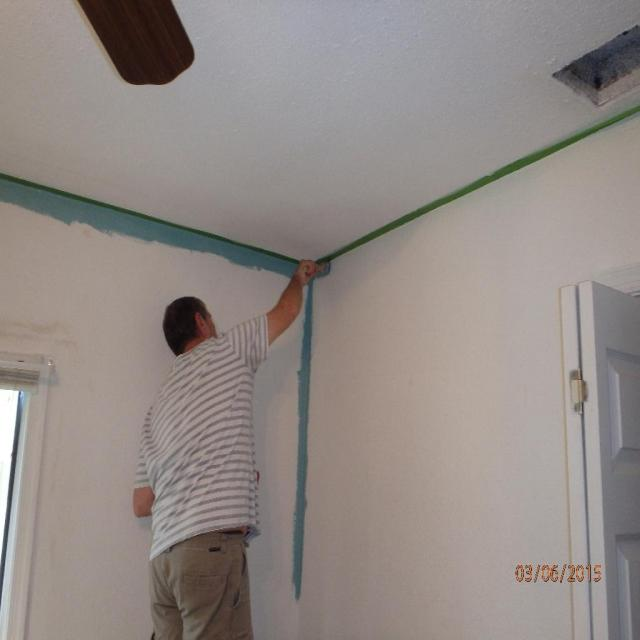Bulb: (77, 0, 195, 85)
